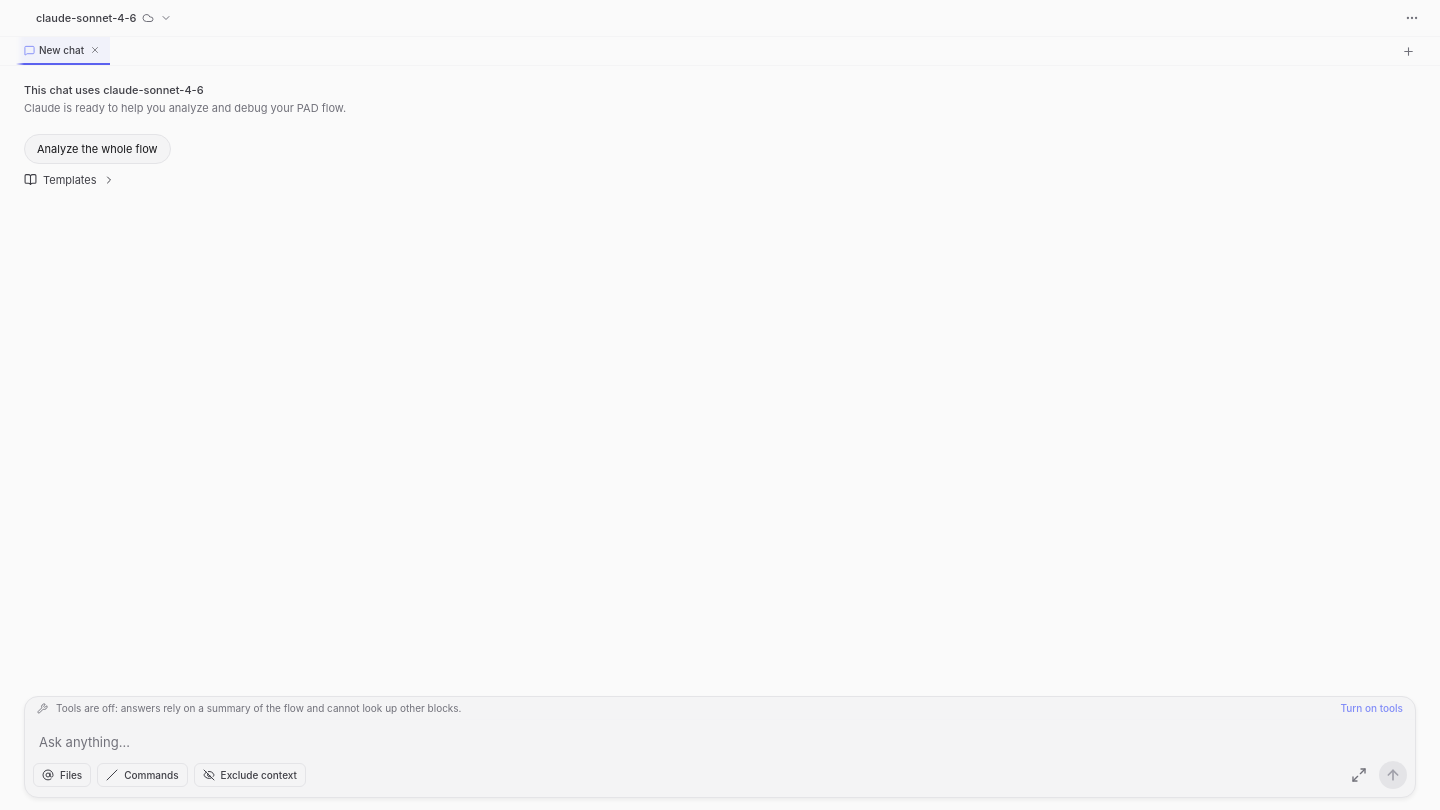
AITab tools default › a tools-off thread with a flow loaded says so in the composer, and the hint turns tools on
Expected: the text "Tools are off" is shown, [56,702,462,714]
Click the button "Turn on tools" at (1372, 708), box [1340,701,1403,715]
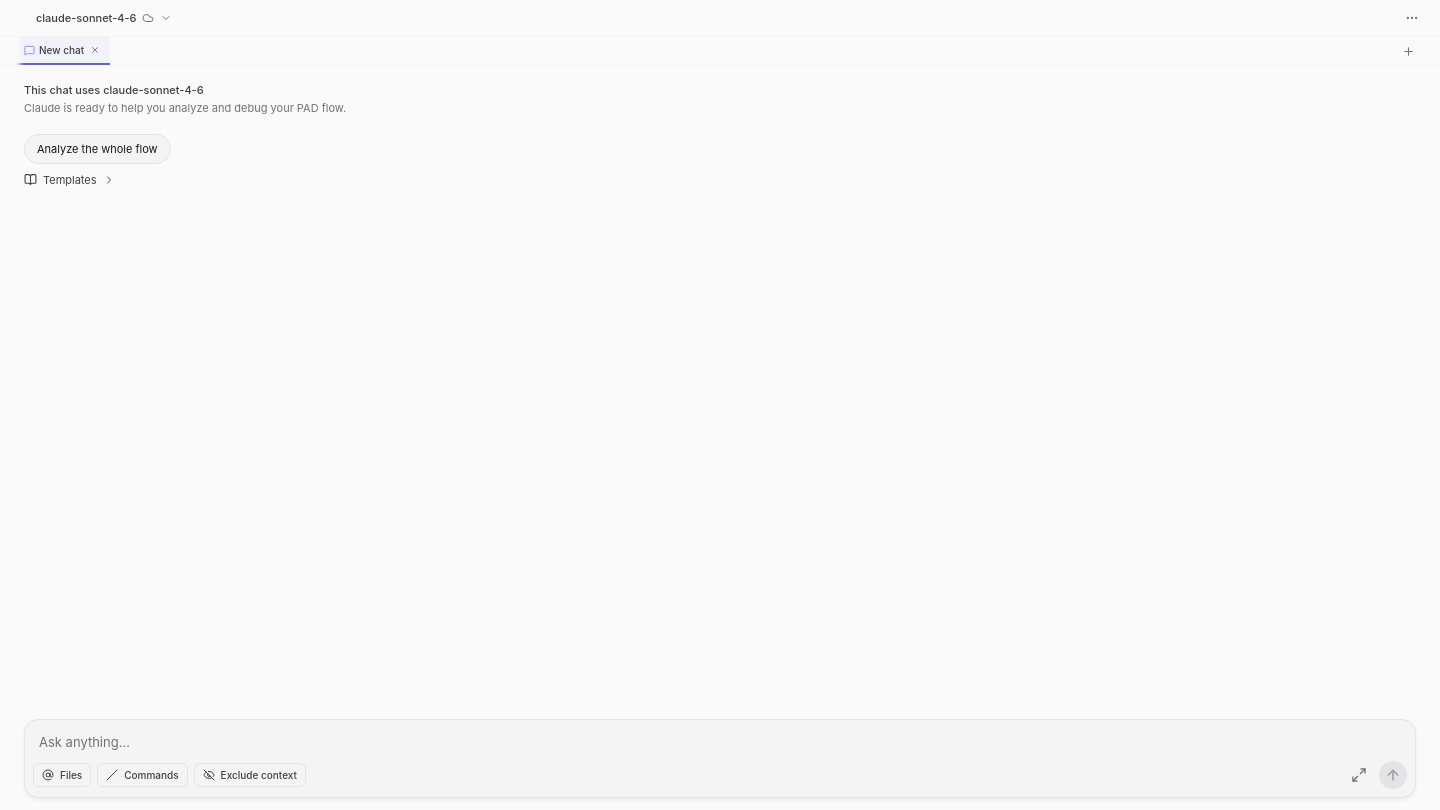
Expected: the text "Tools are off" is gone
